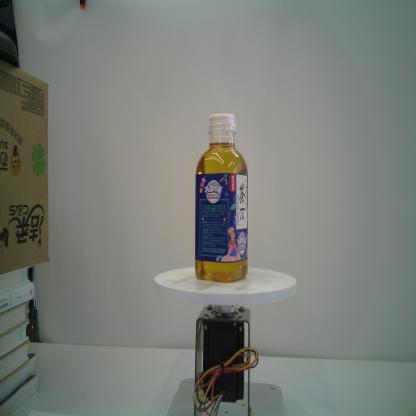Drink: (194, 113, 249, 282)
